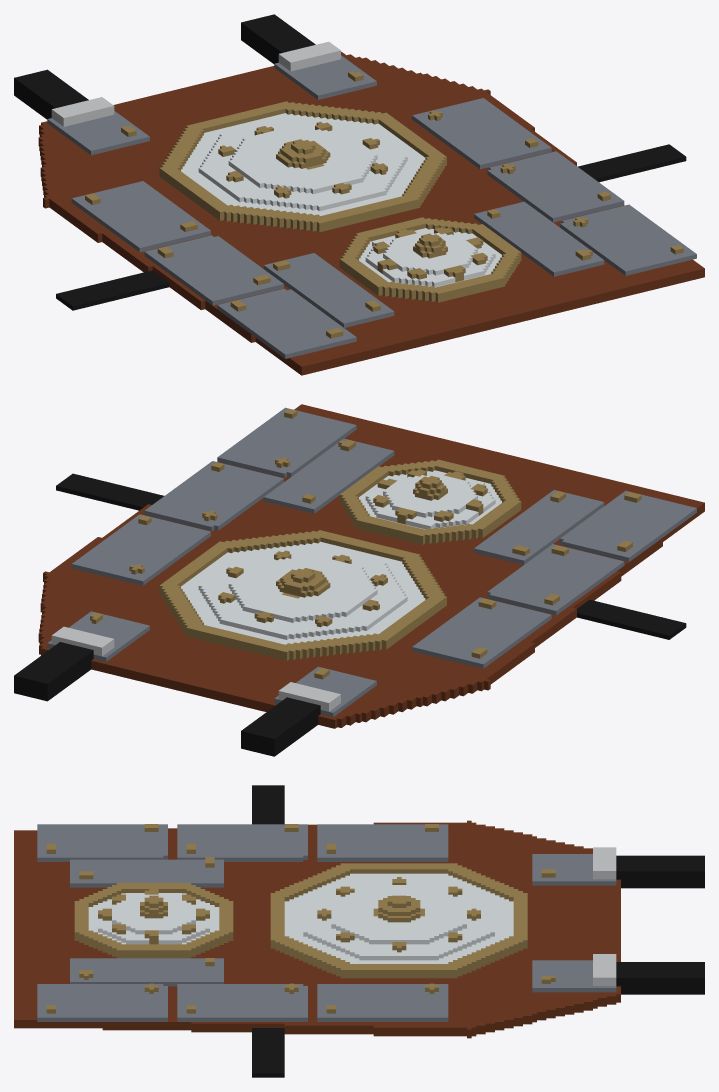
File: ch_mirror_armor.glb
3 renders of one model, top to bottom at view 1: azimuth 30°, elevation 25°; view 2: azimuth 150°, elevation 25°; view 3: azimuth 270°, elevation 25°, orthographic. The views are drawn at different scales.
Visible parts, largest first — view 1: ch_mirror_armor:compound; view 2: ch_mirror_armor:compound; view 3: ch_mirror_armor:compound.
Boxes of the visible parts, left/top/right/bottom form: ch_mirror_armor:compound: left=14, top=14, right=704, bottom=375; ch_mirror_armor:compound: left=14, top=404, right=704, bottom=756; ch_mirror_armor:compound: left=14, top=785, right=704, bottom=1077.
Size of the model in its own units: 0.584 by 0.032 by 0.592.
